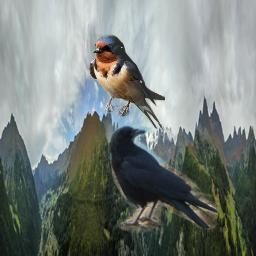Crow: (108, 121, 218, 233)
Swallow: (87, 34, 165, 132)
